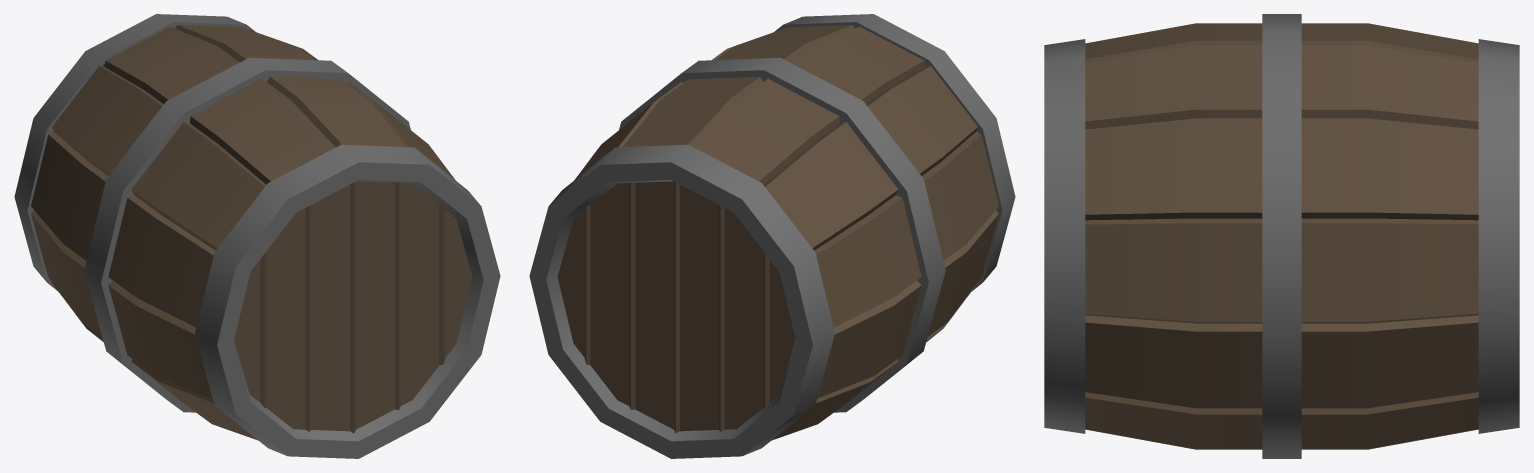
Rendered from barrel.fbx.
3 renders of one model, left to right at view 1: azimuth 30°, elevation 25°; view 2: azimuth 150°, elevation 25°; view 3: azimuth 270°, elevation 25°, orthographic. The views are drawn at different scales.
Visible parts, largest first — view 1: barrel; view 2: barrel; view 3: barrel.
Boxes of the visible parts, <box> form: barrel: <box>14,14,500,458</box>; barrel: <box>529,14,1015,458</box>; barrel: <box>1044,14,1519,458</box>.
Bounding box in the file's own units: 37.53 × 37.53 × 39.93.
